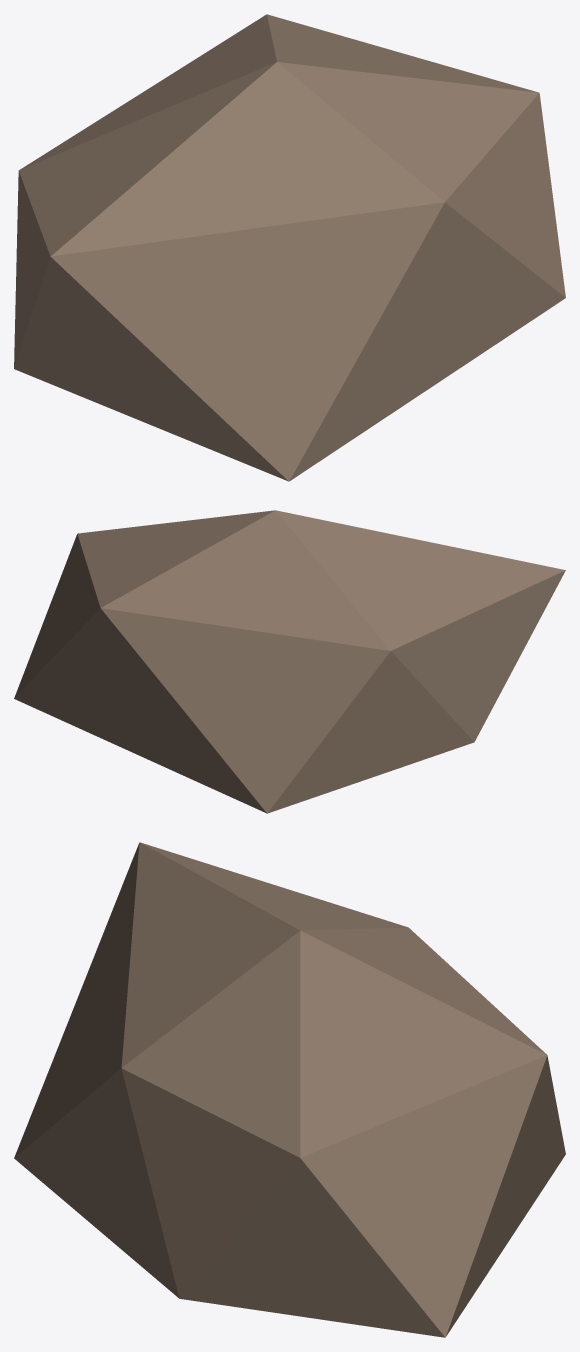
The model's file is charcoal_held.gltf.
3 views of the same model, one above another, from view 1: azimuth 30°, elevation 25°; view 2: azimuth 150°, elevation 25°; view 3: azimuth 270°, elevation 25° (orthographic). The views are drawn at different scales.
Visible parts, largest first — view 1: furnace_charcoal_held; view 2: furnace_charcoal_held; view 3: furnace_charcoal_held.
Part boxes in pixels (x1,y1,x2,y2): furnace_charcoal_held: (14,14,565,481); furnace_charcoal_held: (14,510,565,813); furnace_charcoal_held: (14,842,565,1337).
Size of the model in its own units: 0.0899 by 0.0557 by 0.0725.
